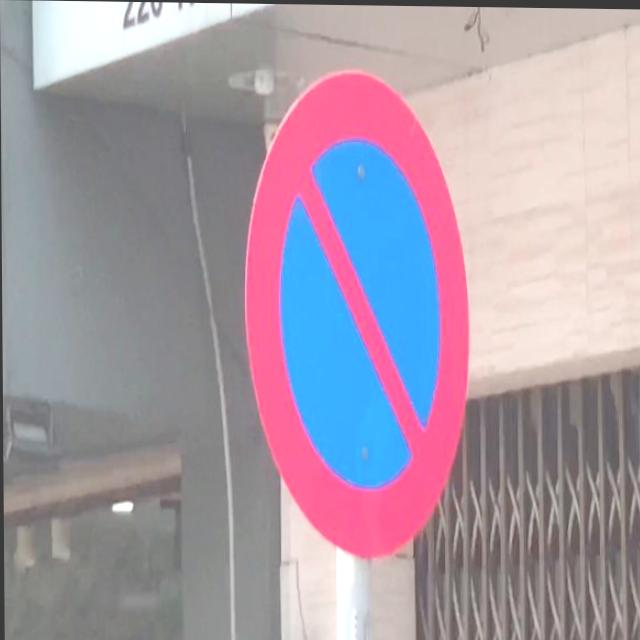Cam do xe: (240, 67, 471, 560)
